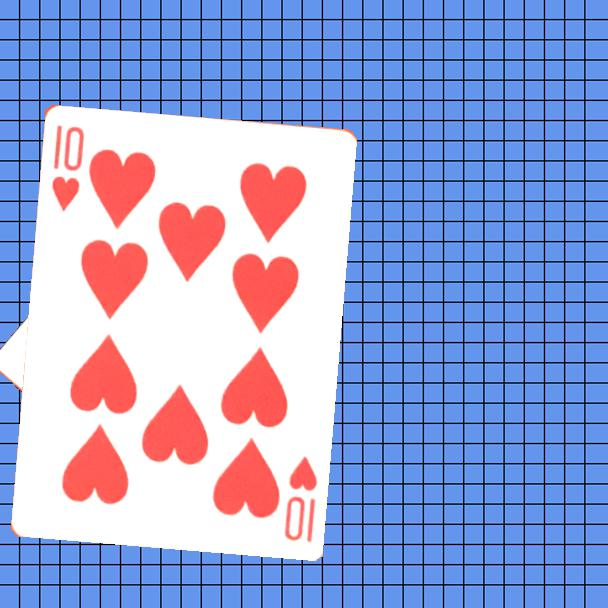h10: (280, 452, 320, 544), (48, 121, 87, 214)
